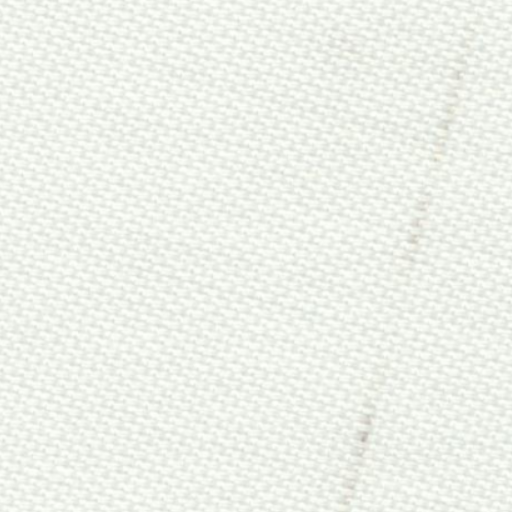WuZi: (333, 15, 484, 502)
